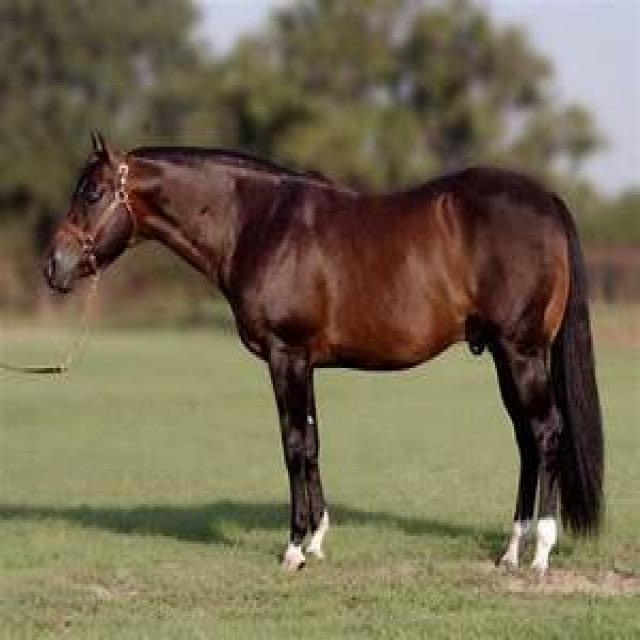animal: (42, 132, 592, 576)
